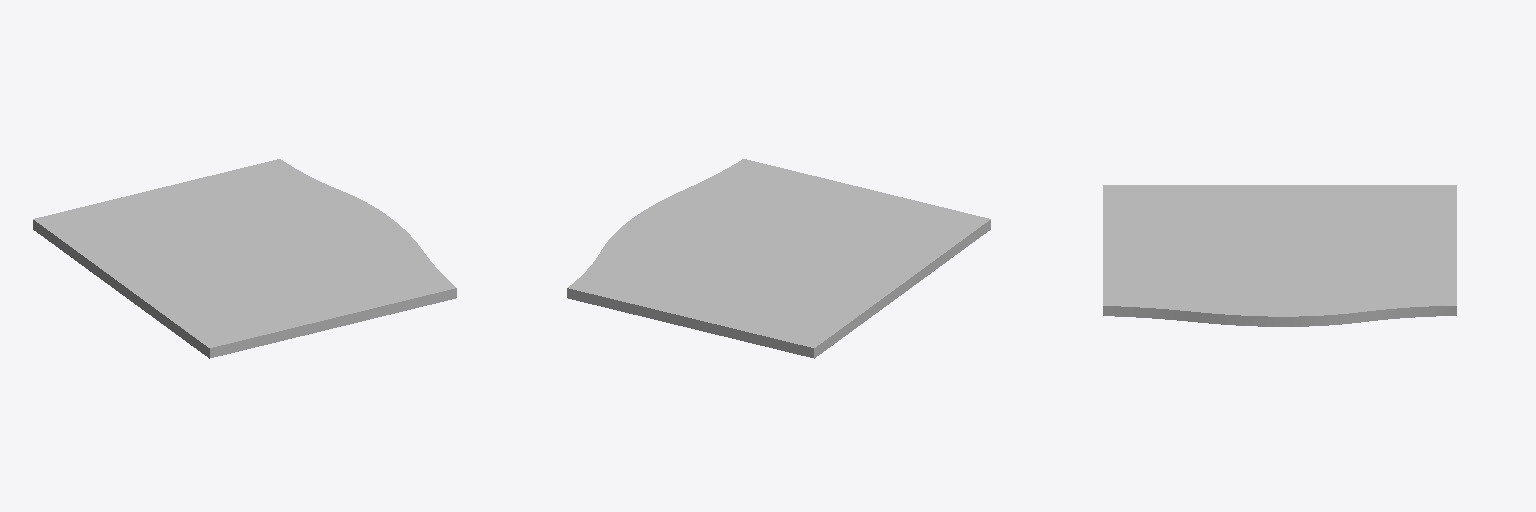
The model's file is LHS Menu.obj.
The picture shows the model from 3 angles: view 1: azimuth 30°, elevation 25°; view 2: azimuth 150°, elevation 25°; view 3: azimuth 270°, elevation 25°; orthographic projection.
Visible parts, largest first — view 1: Layer_Layer_1; view 2: Layer_Layer_1; view 3: Layer_Layer_1.
Part boxes in pixels (left/top/right/bottom): Layer_Layer_1: left=33, top=159, right=456, bottom=358; Layer_Layer_1: left=567, top=159, right=990, bottom=358; Layer_Layer_1: left=1103, top=185, right=1456, bottom=326.
Size of the model in its own units: 275 by 10 by 312.